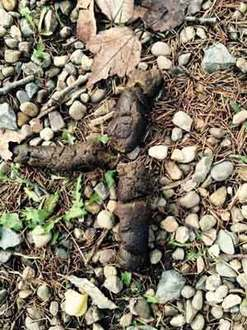Dog: (12, 67, 153, 271)
